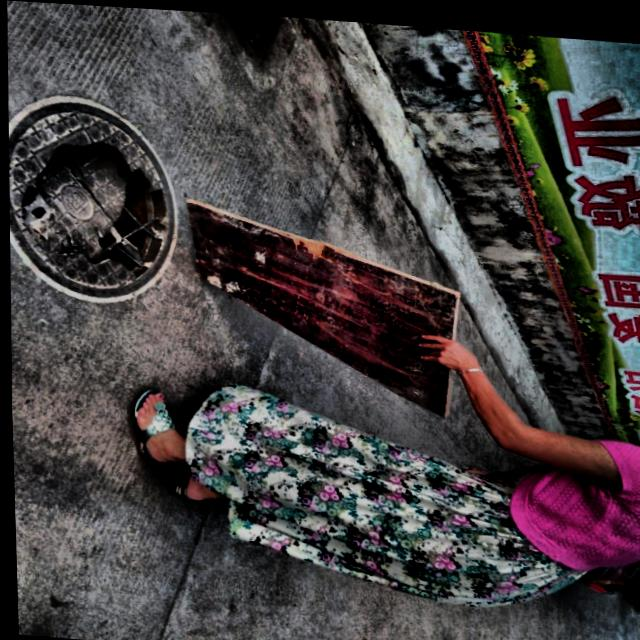Open Manhole: (6, 95, 175, 301)
